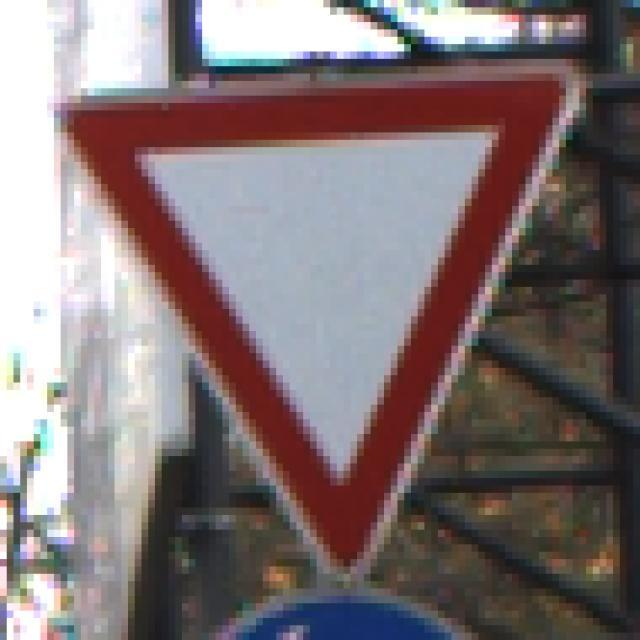give way: (30, 56, 615, 594)
